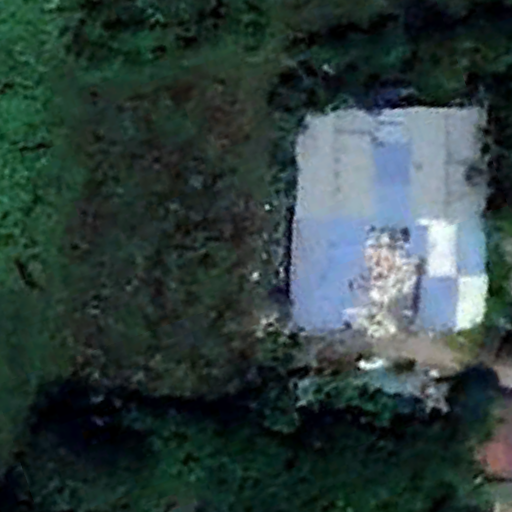msw: (364, 229, 418, 334)
